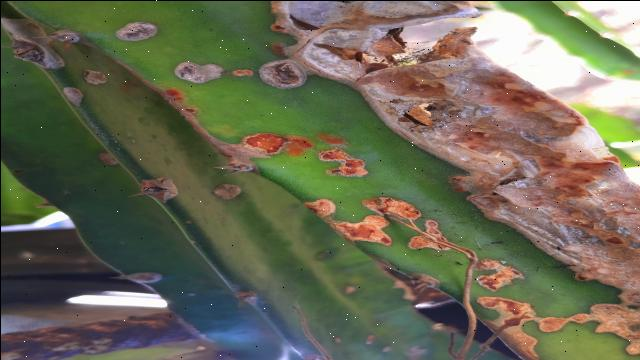stemcanker: (251, 57, 312, 93), (171, 56, 225, 88), (110, 16, 164, 48), (210, 181, 247, 205), (80, 66, 109, 89), (324, 332, 350, 348), (340, 279, 360, 298), (363, 330, 377, 347)
